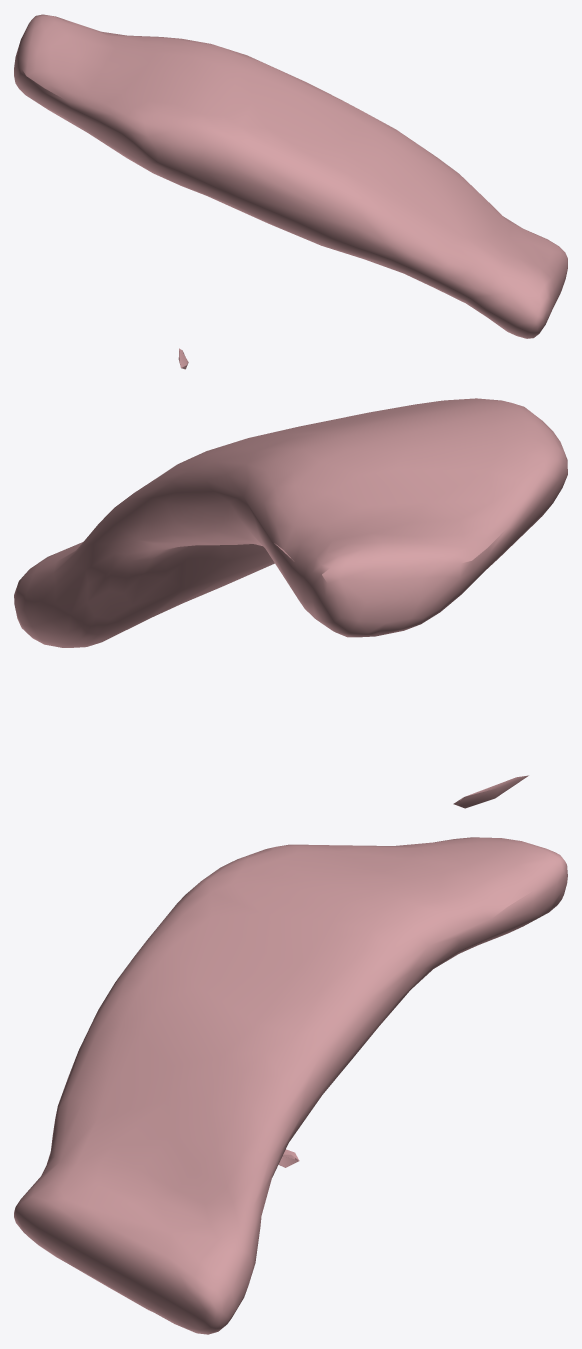
The model's file is fma275451_mm3774.glb.
3 renders of one model, top to bottom at view 1: azimuth 30°, elevation 25°; view 2: azimuth 150°, elevation 25°; view 3: azimuth 270°, elevation 25°, orthographic. The views are drawn at different scales.
Visible parts, largest first — view 1: FMA275451_MM3774; view 2: FMA275451_MM3774; view 3: FMA275451_MM3774.
Boxes of the visible parts, bbox=[...] form: FMA275451_MM3774: bbox=[14, 14, 567, 369]; FMA275451_MM3774: bbox=[14, 398, 567, 808]; FMA275451_MM3774: bbox=[14, 837, 567, 1334].
Size of the model in its own units: 0.0197 by 0.0118 by 0.0196.
